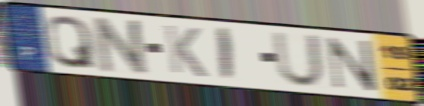I: (217, 25, 235, 83)
K: (161, 22, 209, 80)
N: (92, 15, 152, 77), (325, 35, 379, 93)
Q: (45, 14, 98, 71)
U: (271, 30, 326, 89)
